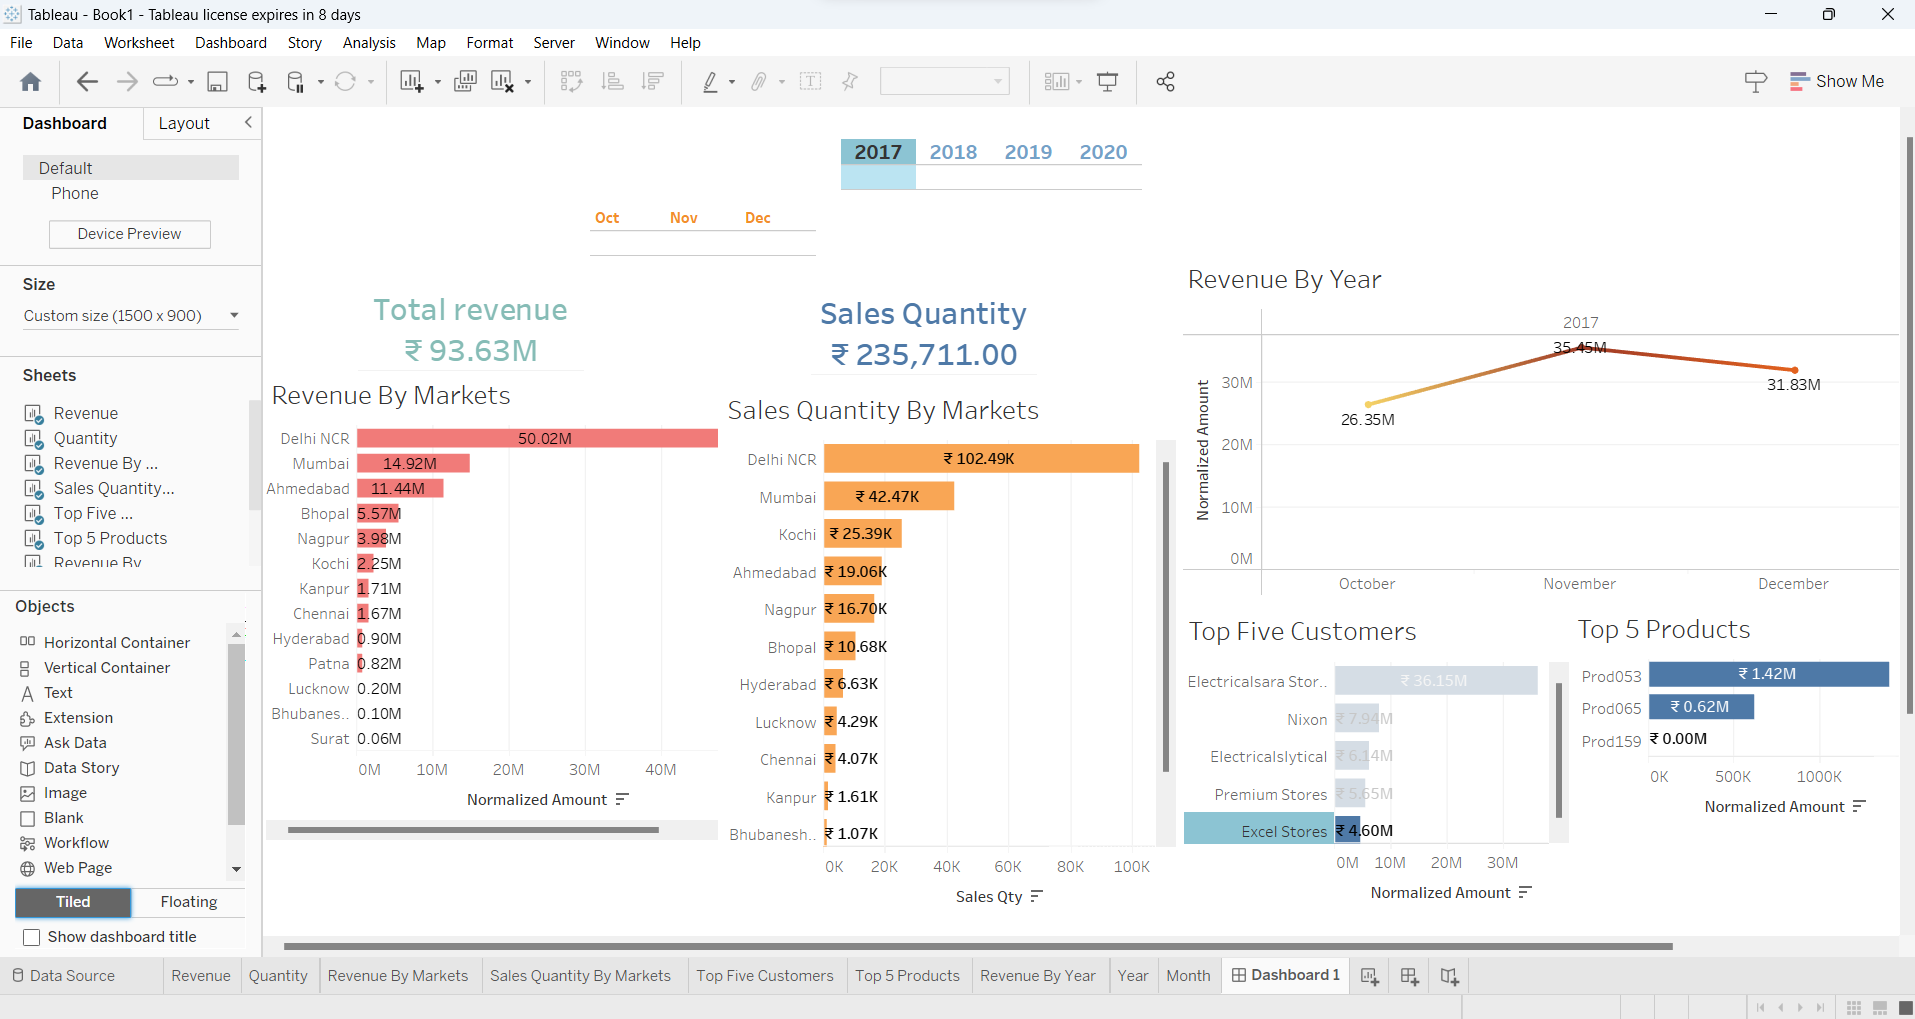

What the dashboard file says about the page in this screenshot:
{"tool":"tableau","page":{"name":"Dashboard 1","canvas":[1500,900],"ordinal":0},"visuals":[{"type":"worksheet","title":"Year","mark":"Automatic","cols":["cy_date"],"box":[463,36,464,45]},{"type":"worksheet","title":"Month","mark":"Automatic","cols":["cy_date"],"box":[262,73,724,80]},{"type":"worksheet","title":"Revenue By Year","mark":"Automatic","rows":["Calculation_247416514895781888"],"cols":["cy_date","cy_date"],"box":[736,129,576,273]},{"type":"worksheet","title":"Revenue","mark":"Automatic","box":[76,140,246,97]},{"type":"worksheet","title":"Quantity","mark":"Automatic","box":[439,143,265,104]},{"type":"worksheet","title":"Revenue By Markets","mark":"Automatic","rows":["markets_name"],"cols":["Calculation_247416514895781888"],"box":[3,222,361,439]},{"type":"worksheet","title":"Sales Quantity By Markets","mark":"Automatic","rows":["markets_name"],"cols":["sales_qty"],"box":[368,234,363,423]},{"type":"worksheet","title":"Top 5 Products","mark":"Automatic","rows":["product_code (products)"],"cols":["Calculation_247416514895781888"],"box":[1048,409,263,243]},{"type":"worksheet","title":"Top Five Customers","mark":"Automatic","rows":["custmer_name"],"cols":["Calculation_247416514895781888"],"box":[737,411,308,243]}]}

Visuals, with their boxes on the page's 1500x900 design canvas (x1, y1, x2, y2). These are canvas units, not pixel positions in the 1915x1019 screenshot, which may show the page scaled, cropped or inside an application window:
"Year" worksheet: BBox(463, 36, 927, 81)
"Month" worksheet: BBox(262, 73, 986, 153)
"Revenue By Year" worksheet: BBox(736, 129, 1312, 402)
"Revenue" worksheet: BBox(76, 140, 322, 237)
"Quantity" worksheet: BBox(439, 143, 704, 247)
"Revenue By Markets" worksheet: BBox(3, 222, 364, 661)
"Sales Quantity By Markets" worksheet: BBox(368, 234, 731, 657)
"Top 5 Products" worksheet: BBox(1048, 409, 1311, 652)
"Top Five Customers" worksheet: BBox(737, 411, 1045, 654)
